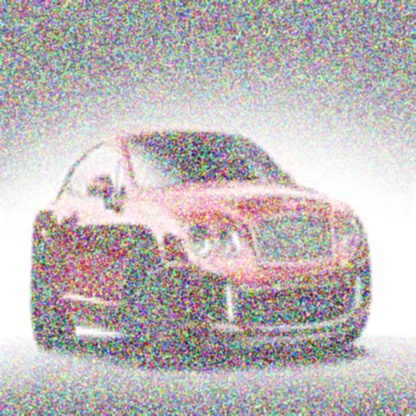Vehicle: (25, 124, 376, 371)
